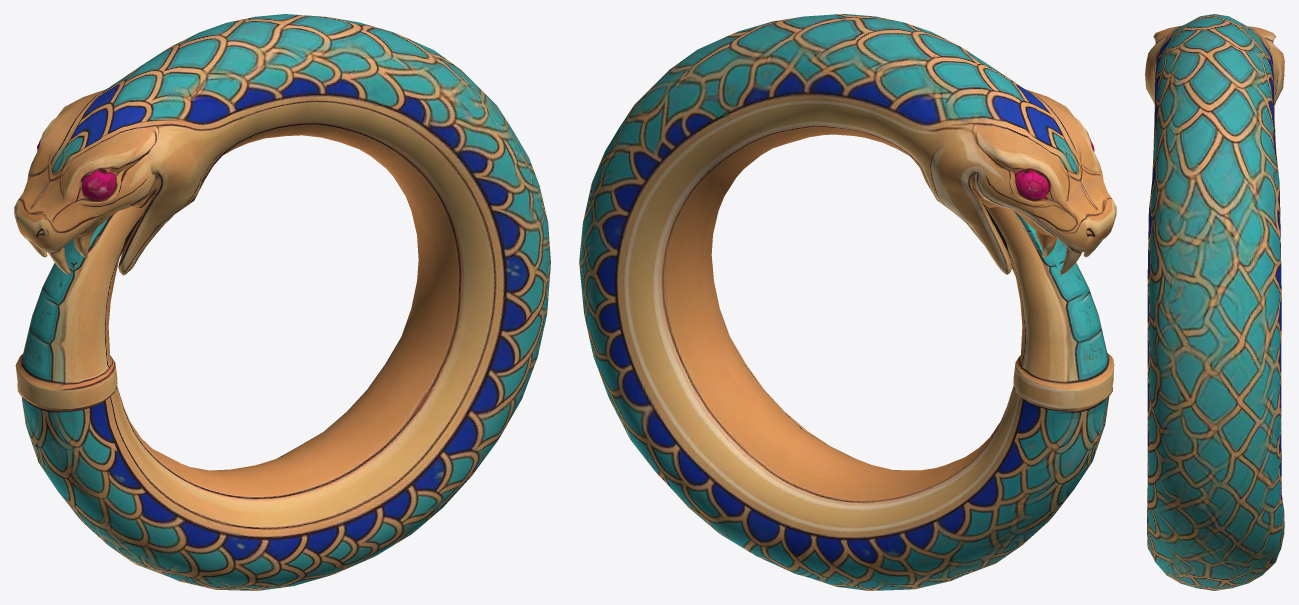
File: bangle.glb
3 views of the same model, side by side, from view 1: azimuth 30°, elevation 25°; view 2: azimuth 150°, elevation 25°; view 3: azimuth 270°, elevation 25° (orthographic). The views are drawn at different scales.
Size of the model in its own units: 0.9615 by 1 by 0.2473.
1 material, 1 textured.
